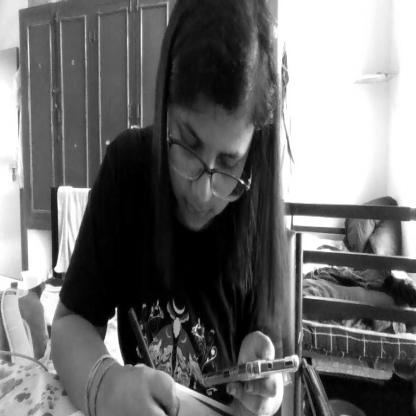Normal: (162, 3, 272, 262)
